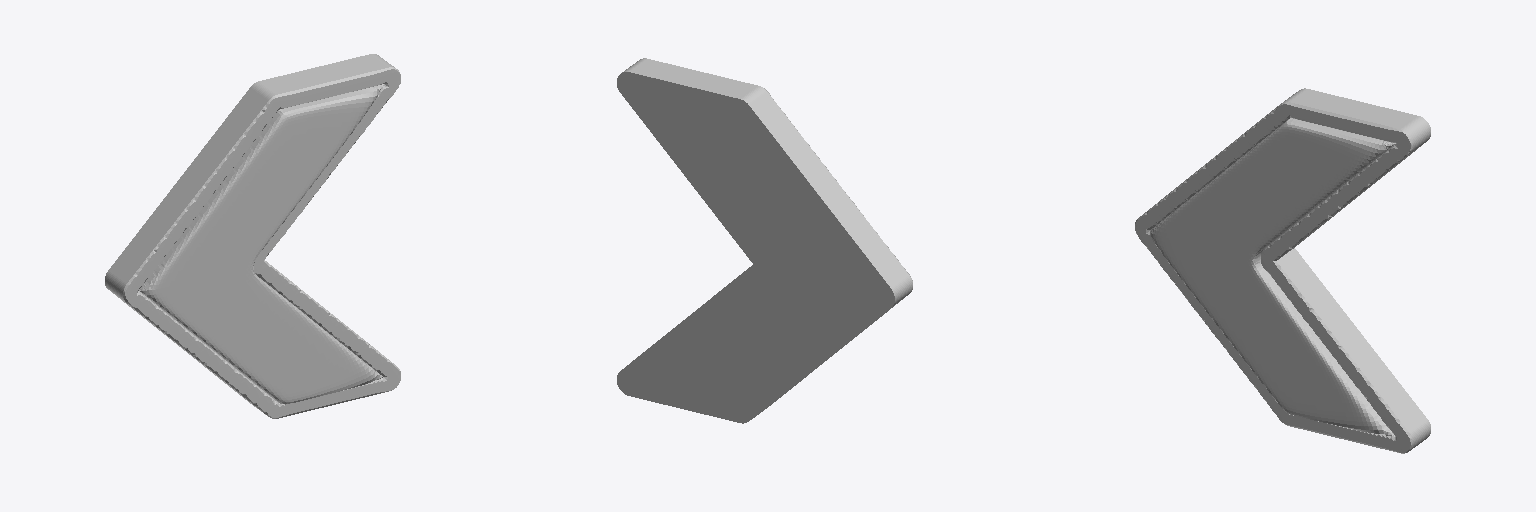
The model's file is 3DArrow.obj.
3 views of the same model, side by side, from view 1: azimuth 30°, elevation 25°; view 2: azimuth 150°, elevation 25°; view 3: azimuth 330°, elevation 25° (orthographic).
Size of the model in its own units: 481 by 535 by 73.48.